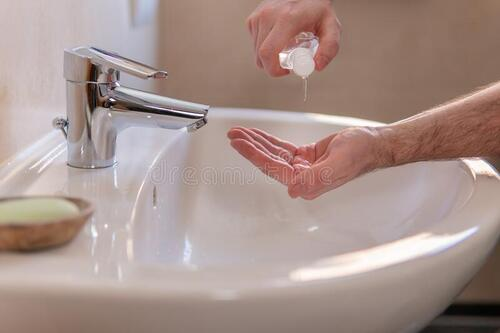sanitizer: (277, 33, 317, 112)
